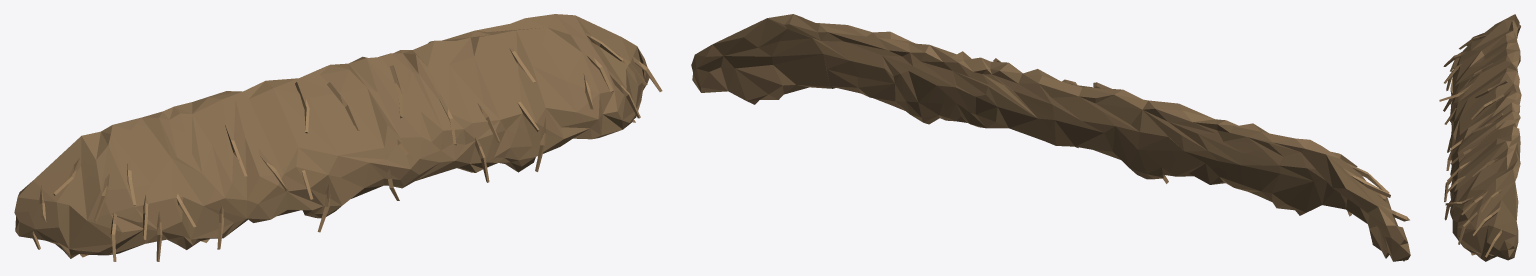
File: SM_Bld_Awning_Thatch_01.obj
The picture shows the model from 3 angles, left to right: view 1: azimuth 30°, elevation 25°; view 2: azimuth 150°, elevation 25°; view 3: azimuth 270°, elevation 25°; orthographic projection. The views are drawn at different scales.
Visible parts, largest first — view 1: SM_Bld_Awning_Thatch_01_0; view 2: SM_Bld_Awning_Thatch_01_0; view 3: SM_Bld_Awning_Thatch_01_0.
Boxes of the visible parts, box(x1,y1,x2,y2) form: SM_Bld_Awning_Thatch_01_0: box(14, 14, 662, 261); SM_Bld_Awning_Thatch_01_0: box(691, 14, 1410, 261); SM_Bld_Awning_Thatch_01_0: box(1439, 14, 1521, 261).
Bounding box in the file's own units: 3.42 × 0.6063 × 0.5515.
Materials: 1 (1 with a texture image).
